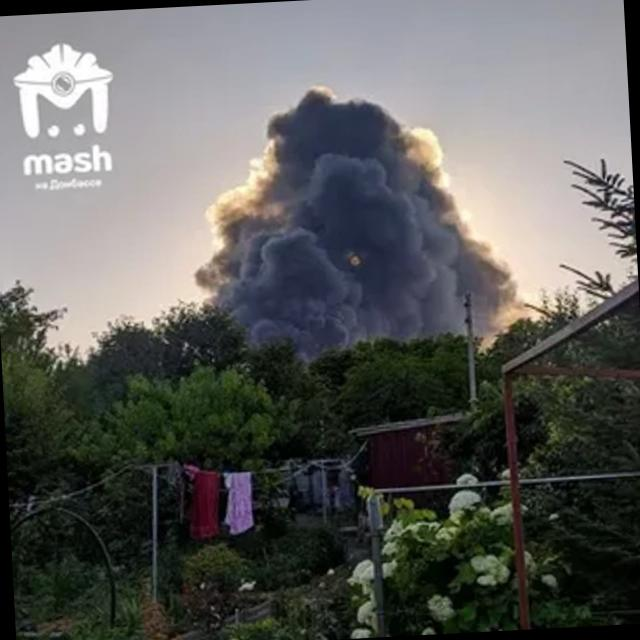Smoke: (187, 79, 514, 360)
